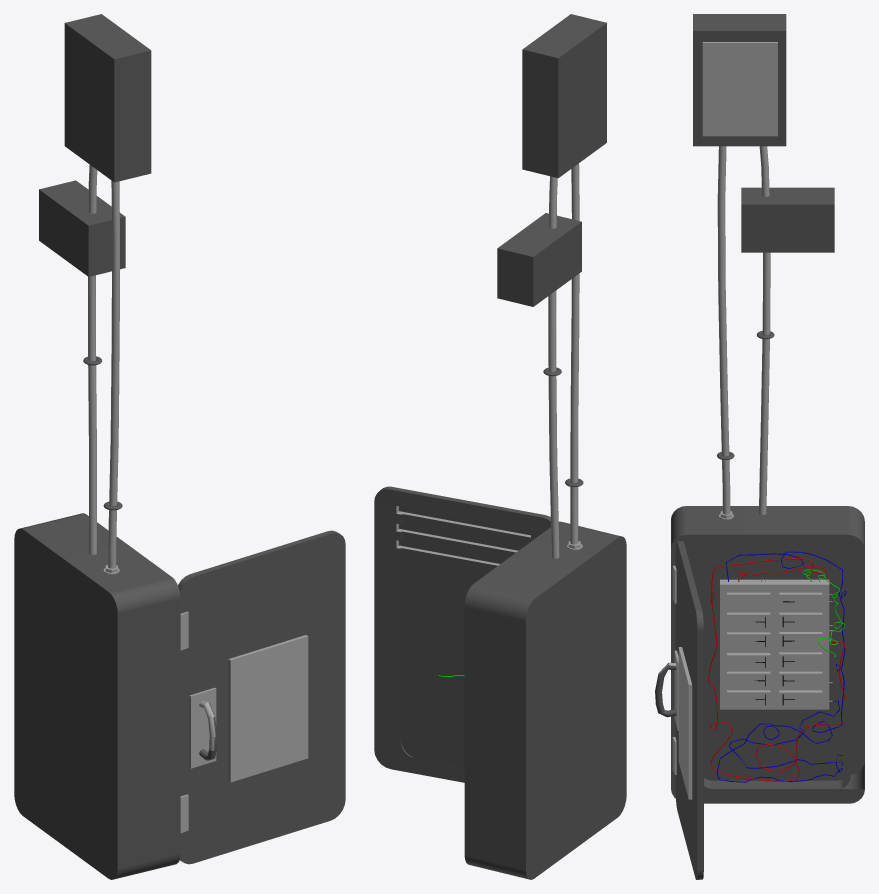
Rendered from flipones.fbx.
The picture shows the model from 3 angles, left to right: view 1: azimuth 30°, elevation 25°; view 2: azimuth 150°, elevation 25°; view 3: azimuth 270°, elevation 25°; orthographic projection. The views are drawn at different scales.
Parts seen in each view (by area): view 1: pCube19, pCube42, pCube14, polySurface10, pCylinder5, pCube21, polySurface3; view 2: pCube19, pCube42, pCube14, pCube21, pCylinder5; view 3: pCube19, pCube22, pCube20, pCube42, pCube21, pCylinder5, pCube14, polySurface10, pCylinder38, pCylinder39, pCube23, pCube24 (+11 smaller).
Boxes of the visible parts, x1,y1,x2,y2 form: pCube19: (14,513,180,879); pCube42: (178,530,345,864); pCube14: (64,14,151,182); polySurface10: (228,635,308,782); pCylinder5: (88,165,119,568); pCube21: (39,180,125,276); polySurface3: (189,687,216,768); pCube19: (464,521,626,879); pCube42: (374,486,550,782); pCube14: (522,14,606,178); pCube21: (497,213,581,306); pCylinder5: (548,163,579,558); pCube19: (671,506,864,803); pCube22: (702,42,777,136); pCube20: (720,579,829,709); pCube42: (675,540,703,879); pCube21: (741,187,834,252); pCylinder5: (717,146,770,514); pCube14: (693,14,786,146); polySurface10: (678,647,692,799); pCylinder38: (717,551,846,782); pCylinder39: (708,558,845,781); pCube23: (727,592,770,608); pCube24: (779,592,822,608).
Bounding box in the file's own units: 1.87 × 6 × 1.49.
